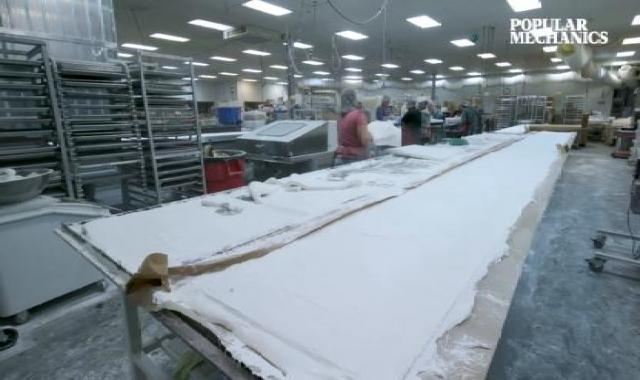Apron: (398, 109, 420, 149)
Glove: (366, 137, 377, 151)
Hairnet: (340, 86, 358, 117), (405, 97, 416, 107), (382, 93, 391, 105)
No_Apron: (336, 112, 368, 165)
